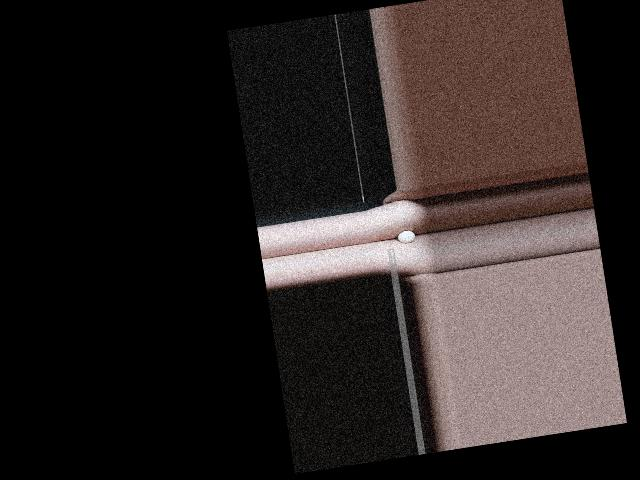egg: (396, 229, 415, 244)
